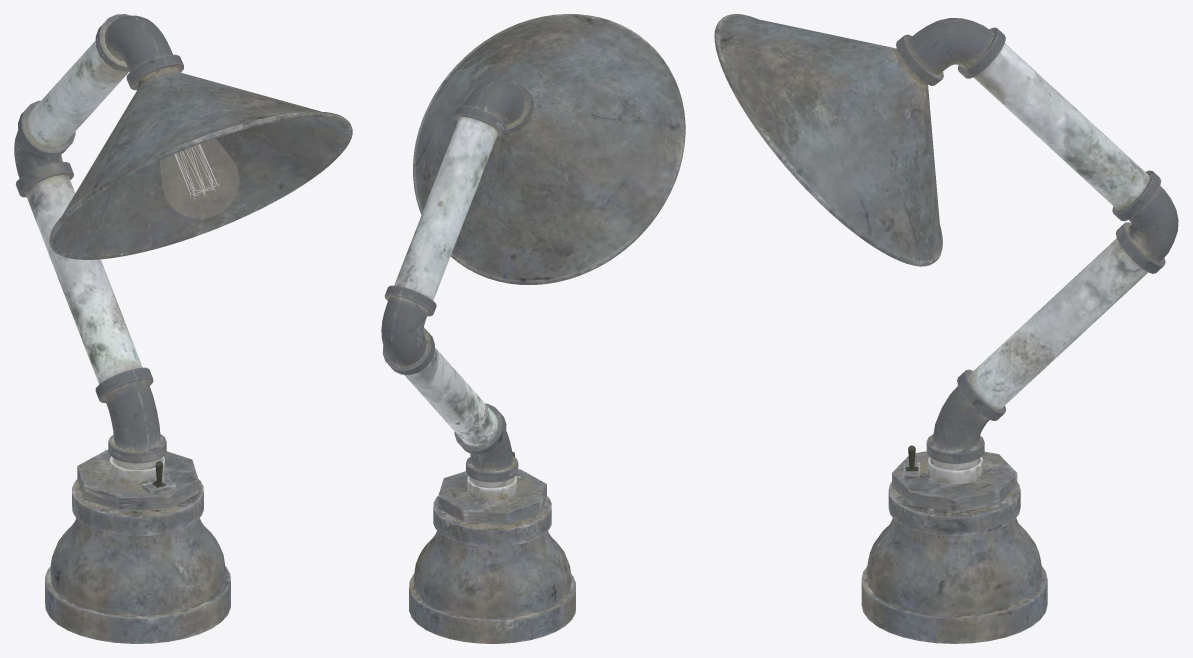
File: industrial_pipe_lamp.glb
3 views of the same model, side by side, from view 1: azimuth 30°, elevation 25°; view 2: azimuth 150°, elevation 25°; view 3: azimuth 270°, elevation 25° (orthographic). The views are drawn at different scales.
Parts seen in each view (by area): view 1: industrial_pipe_lamp; view 2: industrial_pipe_lamp; view 3: industrial_pipe_lamp.
Part boxes in pixels (box(x1,y1,x2,y2)): industrial_pipe_lamp: box(14, 14, 352, 643); industrial_pipe_lamp: box(381, 14, 685, 643); industrial_pipe_lamp: box(714, 14, 1178, 643).
Bounding box in the file's own units: 0.183 × 0.3641 × 0.2621.
2 materials, 2 textured.
